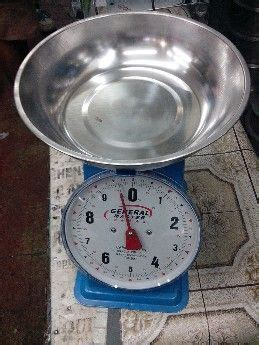Industrial Scale: (14, 9, 252, 315)
